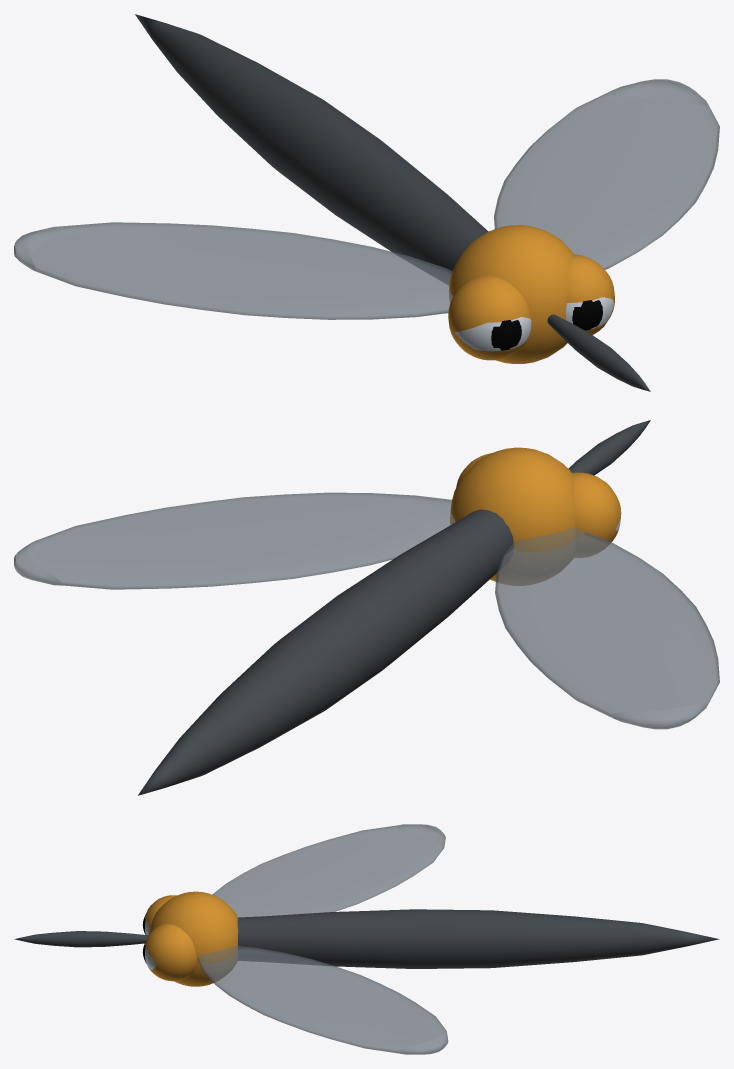
File: mosquito.fbx
The picture shows the model from 3 angles, top to bottom: view 1: azimuth 30°, elevation 25°; view 2: azimuth 150°, elevation 25°; view 3: azimuth 270°, elevation 25°; orthographic projection. The views are drawn at different scales.
Visible parts, largest first — view 1: pCylinder4, pCylinder3, pCylinder1, pSphere1, pSphere2, pSphere27, pCylinder5, pSphere26, pSphere25; view 2: pCylinder4, pCylinder3, pCylinder1, pSphere1, pSphere2, pCylinder5; view 3: pCylinder1, pCylinder3, pCylinder4, pSphere1, pSphere27, pCylinder5.
Boxes of the visible parts, box(x1,y1,x2,y2) form: pCylinder4: box(14, 222, 452, 319); pCylinder3: box(494, 79, 719, 269); pCylinder1: box(135, 14, 488, 284); pSphere1: box(448, 225, 574, 363); pSphere2: box(448, 275, 531, 360); pSphere27: box(566, 254, 614, 335); pCylinder5: box(547, 314, 650, 391); pSphere26: box(491, 320, 521, 350); pSphere25: box(572, 300, 602, 330); pCylinder4: box(495, 528, 719, 729); pCylinder3: box(14, 492, 455, 589); pCylinder1: box(138, 509, 513, 795); pSphere1: box(450, 447, 575, 585); pSphere2: box(572, 472, 621, 557); pCylinder5: box(568, 420, 650, 475); pCylinder1: box(237, 909, 719, 968); pCylinder3: box(197, 946, 448, 1054); pCylinder4: box(212, 824, 445, 917); pSphere1: box(148, 891, 238, 986); pSphere27: box(145, 924, 196, 981); pCylinder5: box(14, 931, 148, 947).
Bounding box in the file's own units: 7.79 × 1.39 × 10.28.
